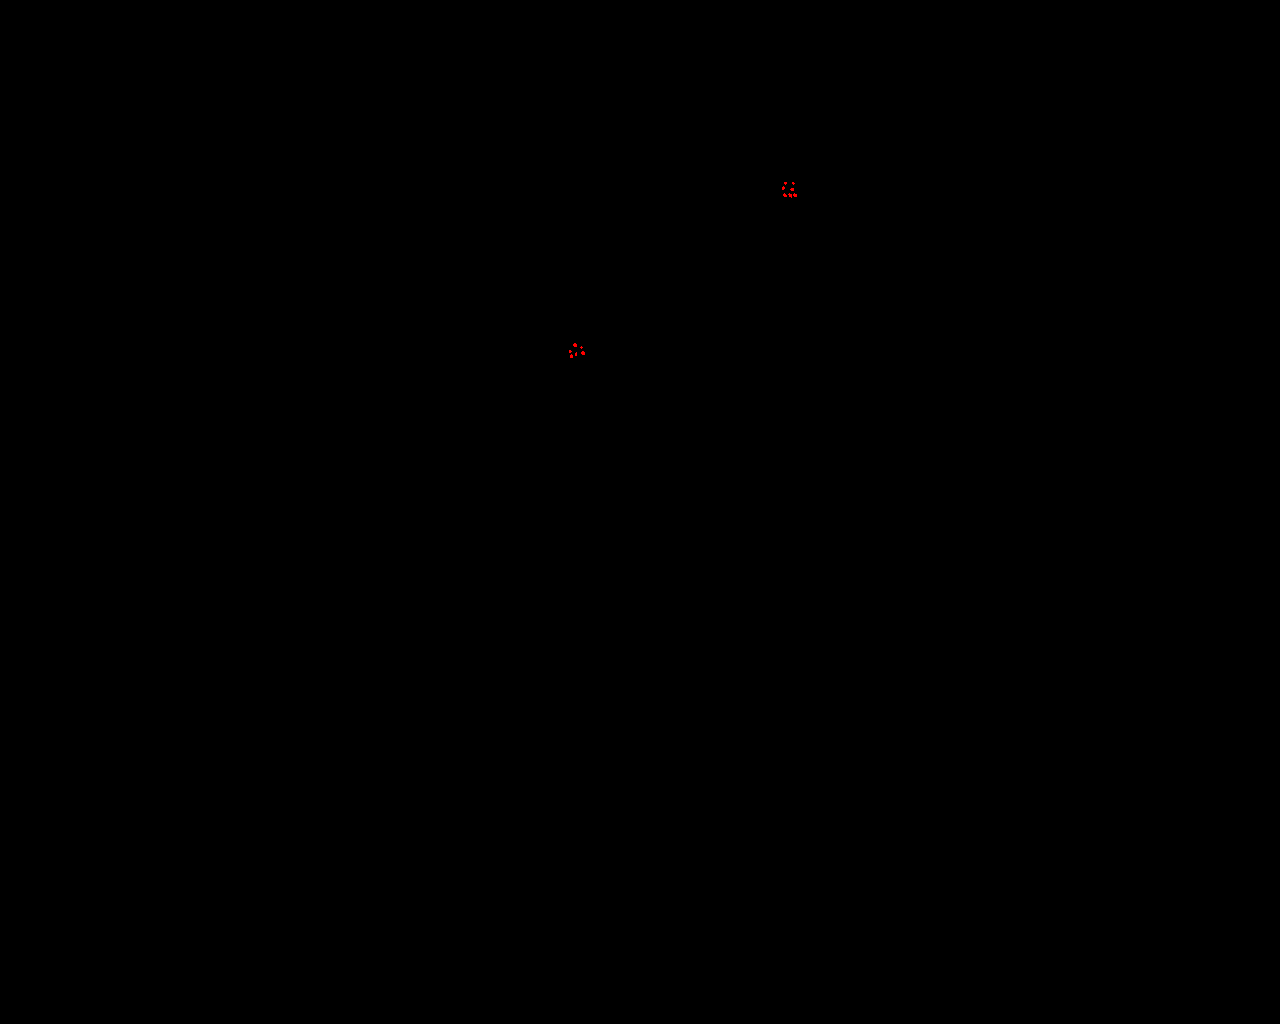Target: (783, 193, 787, 197), (788, 193, 792, 197), (793, 193, 797, 197), (573, 343, 577, 347), (581, 351, 585, 355), (782, 186, 785, 190), (790, 188, 794, 191), (784, 182, 787, 185), (792, 182, 795, 185), (580, 346, 583, 349), (575, 352, 577, 356), (571, 354, 573, 358), (569, 350, 572, 353)
